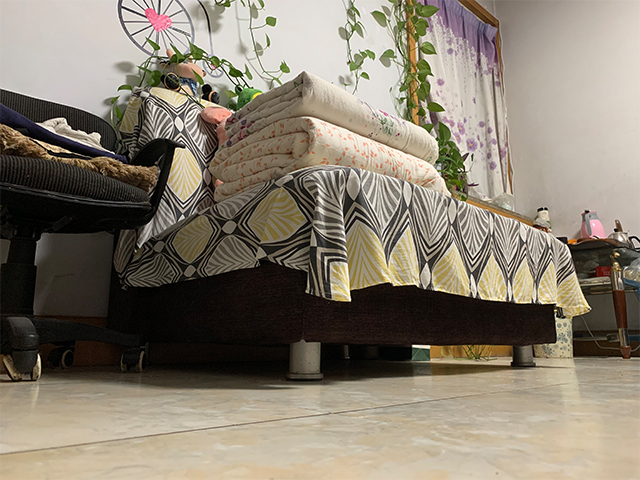sofa: (104, 71, 593, 383)
stool: (1, 87, 188, 383)
trashcan: (533, 309, 575, 360)
wire: (580, 315, 640, 353)
